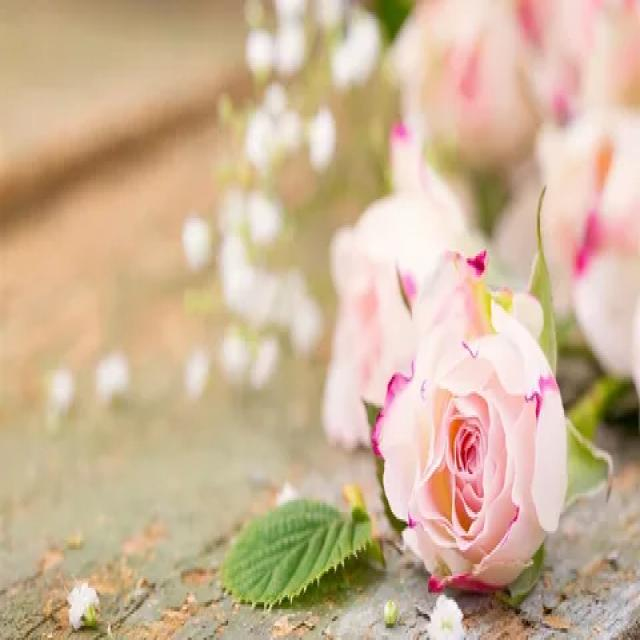rose: (362, 280, 579, 592)
